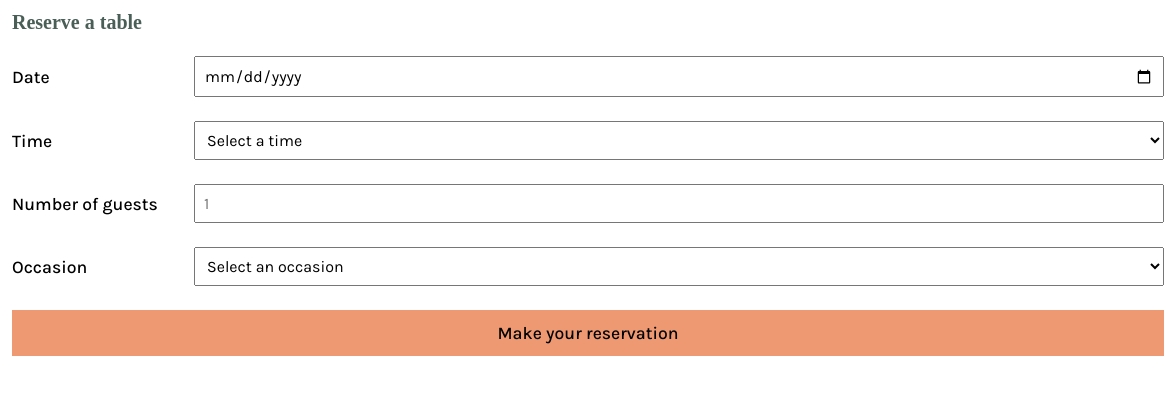
Scenario: Reservation form › Client-side validation › Time input › Shows an invalid state when the input is invalid
The width and height of the screenshot is (1176, 396).
Select "Select a time" in the dropdown labelled "Time" at (679, 140), box top-left (194, 121), bottom-right (1164, 160)
Leave the dropdown labelled "Time", box top-left (194, 121), bottom-right (1164, 160)
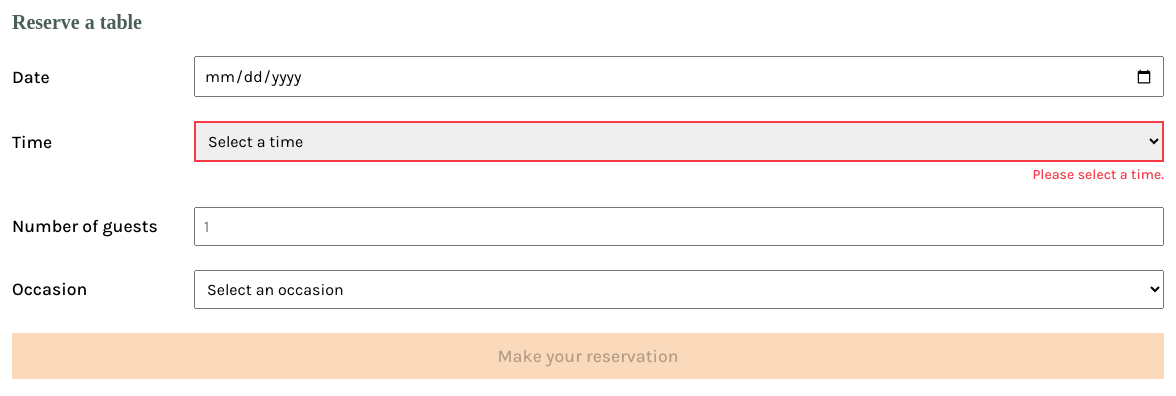
Check: the text "Please select a time." is shown, box top-left (1032, 166), bottom-right (1164, 182)
